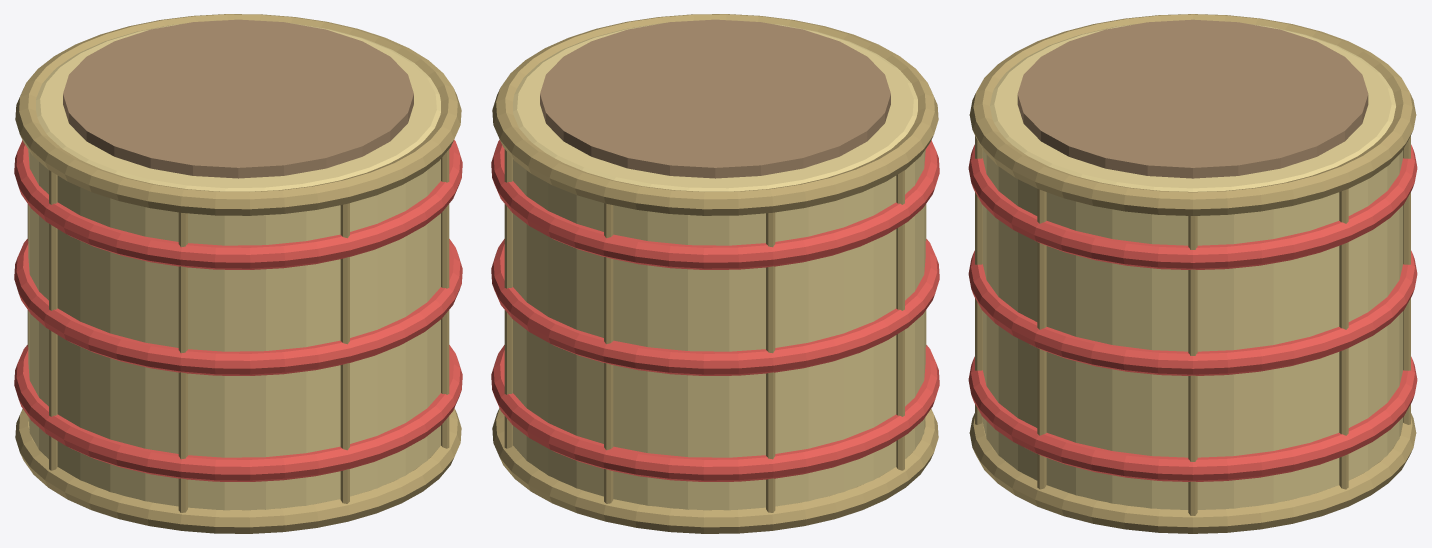
The model's file is sake_barrel.glb.
The picture shows the model from 3 angles, left to right: view 1: azimuth 30°, elevation 25°; view 2: azimuth 150°, elevation 25°; view 3: azimuth 270°, elevation 25°; orthographic projection.
Visible parts, largest first — view 1: sake_barrel; view 2: sake_barrel; view 3: sake_barrel.
Boxes of the visible parts, left/top/right/bottom form: sake_barrel: left=14, top=14, right=462, bottom=533; sake_barrel: left=491, top=14, right=939, bottom=533; sake_barrel: left=968, top=14, right=1417, bottom=533.
Size of the model in its own units: 0.768 by 0.662 by 0.768.
